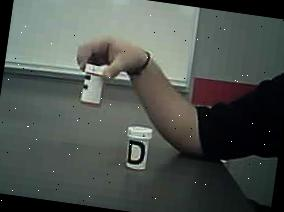Bottle D: (120, 120, 160, 178)
Bottle F: (78, 59, 110, 108)
